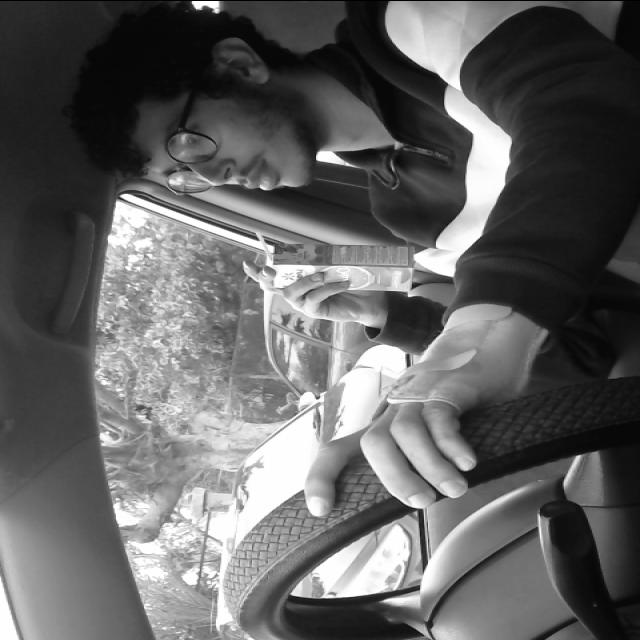drinking: (248, 228, 421, 296)
